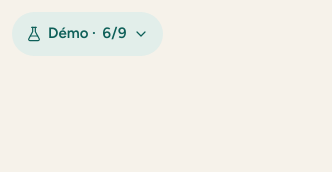
SandboxPanelFrame (UX V1 M2, X8) › écran de travail : une pastille « Démo · 6/9 » qui déplie le panneau ; libellé du panneau masqué
Click the button "Démo · 6/9" at (88, 34), box [12, 12, 163, 56]
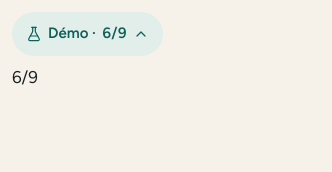
Expected: the element named "Votre démo" is shown, [12, 12, 163, 87]
Expected: the button "Démo · 6/9" is expanded, [12, 12, 163, 56]
